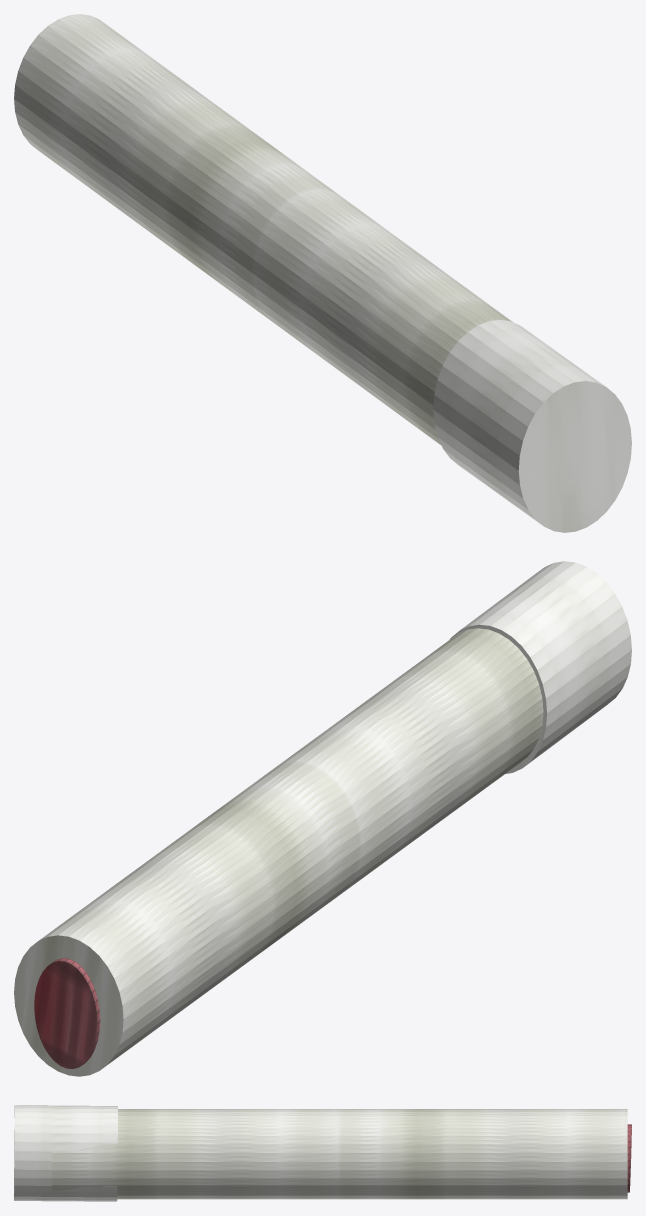
The model's file is joint.obj.
The picture shows the model from 3 angles, top to bottom: view 1: azimuth 30°, elevation 25°; view 2: azimuth 150°, elevation 25°; view 3: azimuth 270°, elevation 25°; orthographic projection. The views are drawn at different scales.
Visible parts, largest first — view 1: Cylinder.001, Cylinder; view 2: Cylinder.001, Cylinder, Cylinder.002; view 3: Cylinder.001, Cylinder, Cylinder.002.
Part boxes in pixels (x1=…): Cylinder.001: x1=14, y1=14, x2=512, y2=445; Cylinder: x1=433, y1=320, x2=631, y2=532; Cylinder.001: x1=14, y1=628, x2=543, y2=1076; Cylinder: x1=449, y1=561, x2=631, y2=773; Cylinder.002: x1=34, y1=958, x2=100, y2=1068; Cylinder.001: x1=51, y1=1109, x2=627, y2=1199; Cylinder: x1=14, y1=1105, x2=117, y2=1201; Cylinder.002: x1=627, y1=1124, x2=631, y2=1192.
Bounding box in the file's own units: 0.3923 × 0.4944 × 3.06.
Materials: 3 (3 with a texture image).
